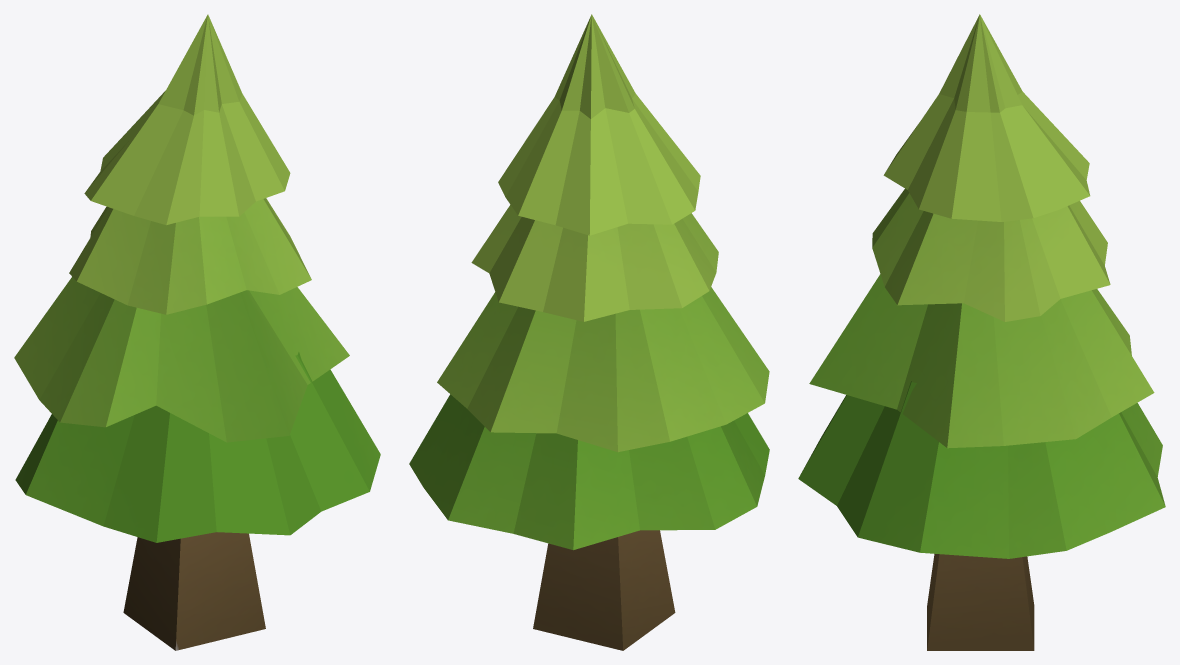
File: tree.fbx
The picture shows the model from 3 angles, left to right: view 1: azimuth 30°, elevation 25°; view 2: azimuth 150°, elevation 25°; view 3: azimuth 270°, elevation 25°; orthographic projection. The views are drawn at different scales.
Parts seen in each view (by area): view 1: Tree1; view 2: Tree1; view 3: Tree1.
Boxes of the visible parts, x1=… form: Tree1: x1=14, y1=14, x2=380, y2=650; Tree1: x1=409, y1=14, x2=769, y2=650; Tree1: x1=798, y1=14, x2=1165, y2=650.
Size of the model in its own units: 3.56 by 6.44 by 3.45.
